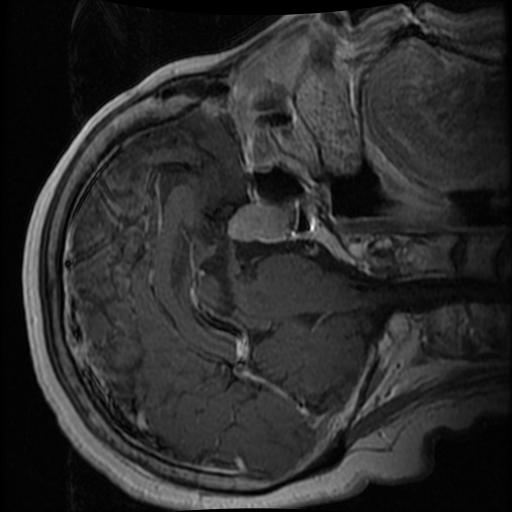pituitary tumour: (224, 203, 289, 243)
